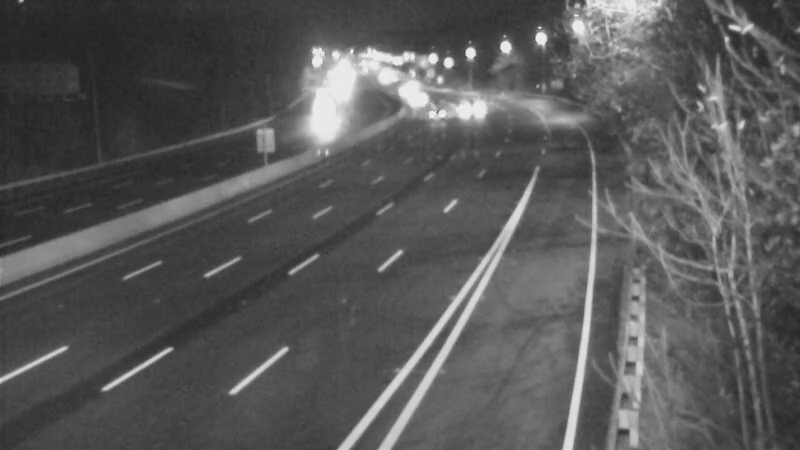vehicle: (377, 65, 427, 115), (393, 76, 443, 126), (440, 86, 490, 136), (416, 86, 466, 136)
